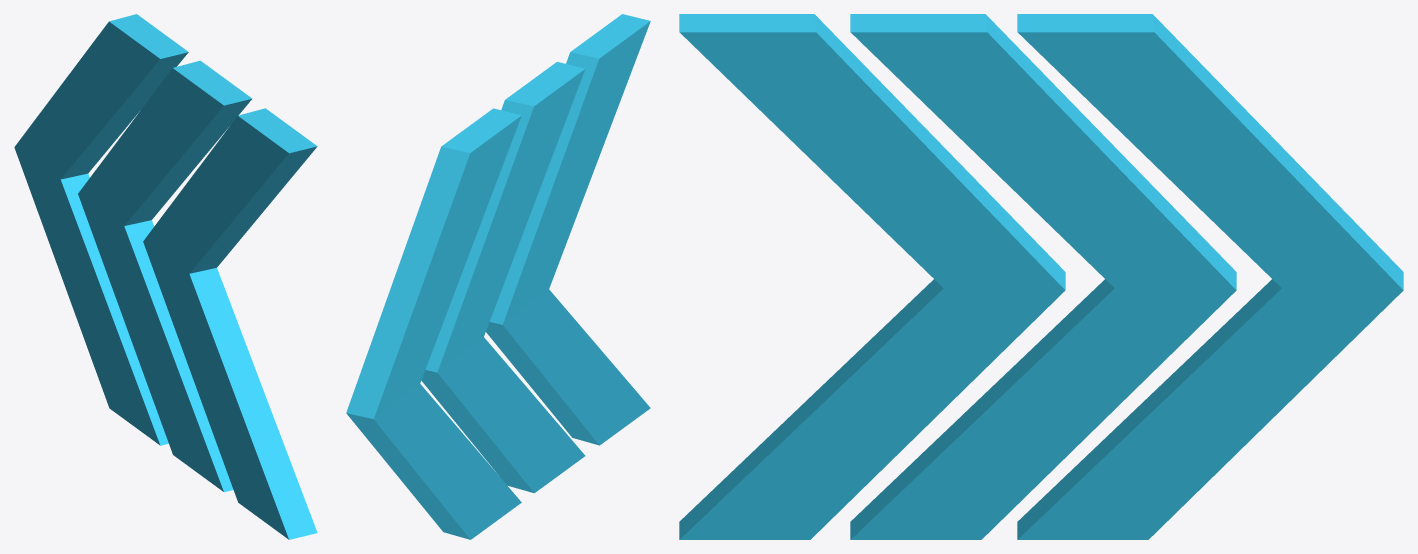
The model's file is Aceleração.fbx.
3 renders of one model, left to right at view 1: azimuth 30°, elevation 25°; view 2: azimuth 150°, elevation 25°; view 3: azimuth 270°, elevation 25°, orthographic. The views are drawn at different scales.
Parts seen in each view (by area): view 1: Aceleração; view 2: Aceleração; view 3: Aceleração.
Part boxes in pixels (bbox=[...]): Aceleração: bbox=[14, 14, 317, 539]; Aceleração: bbox=[346, 14, 650, 539]; Aceleração: bbox=[679, 14, 1403, 539].
Bounding box in the file's own units: 2 × 25.95 × 33.55.
